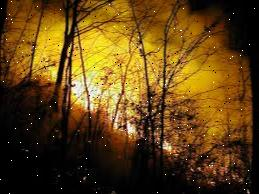fire: (67, 62, 152, 146)
